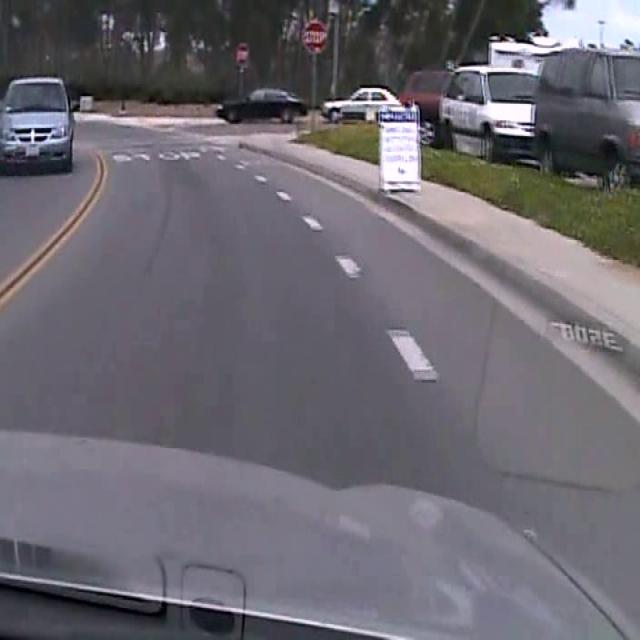stop: (302, 19, 328, 56), (235, 40, 250, 68)
